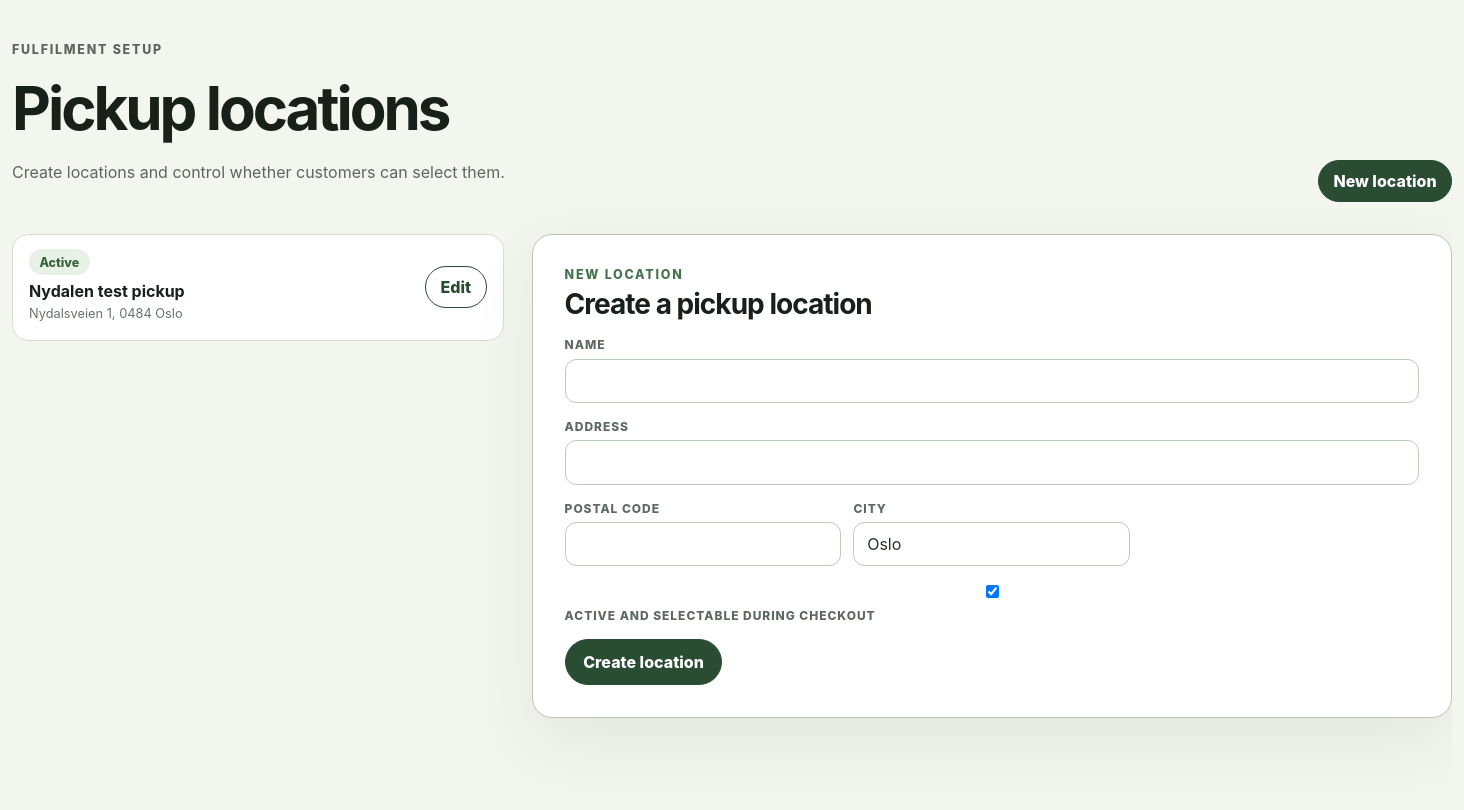
Test: PickupLocationsPanel › edits and deactivates a pickup location
Expected: the heading "Nydalen test pickup" is shown, left=29, top=281, right=185, bottom=301
What coordinates should you click on to do the following:
click the button "Edit"
I would click on:
 (456, 287)
Its box is left=425, top=266, right=487, bottom=308.
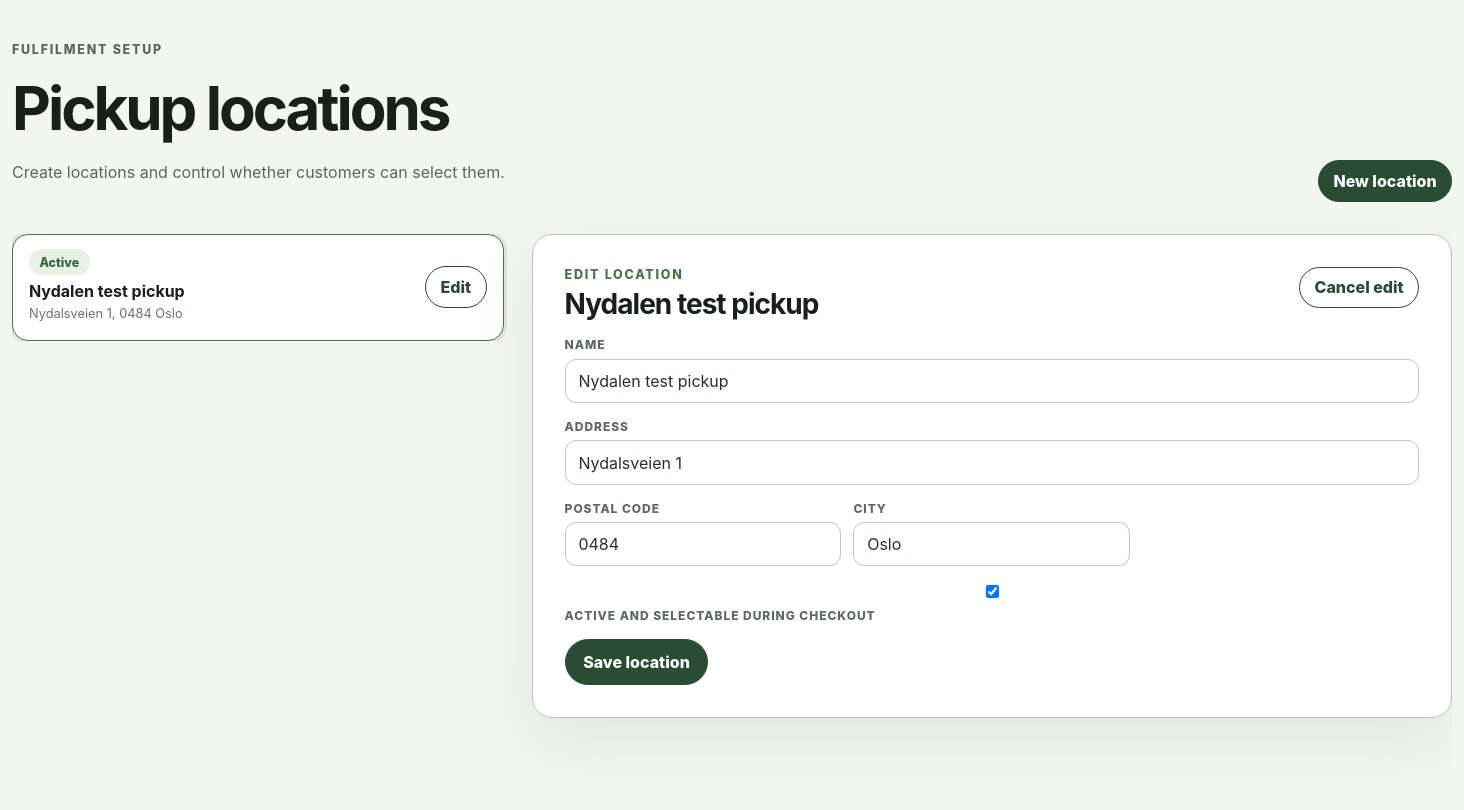
What coordinates should you click on to do the following:
click the checkbox labelled "Active and selectable during checkout"
I would click on:
 (992, 592)
Its box is left=569, top=586, right=1416, bottom=598.
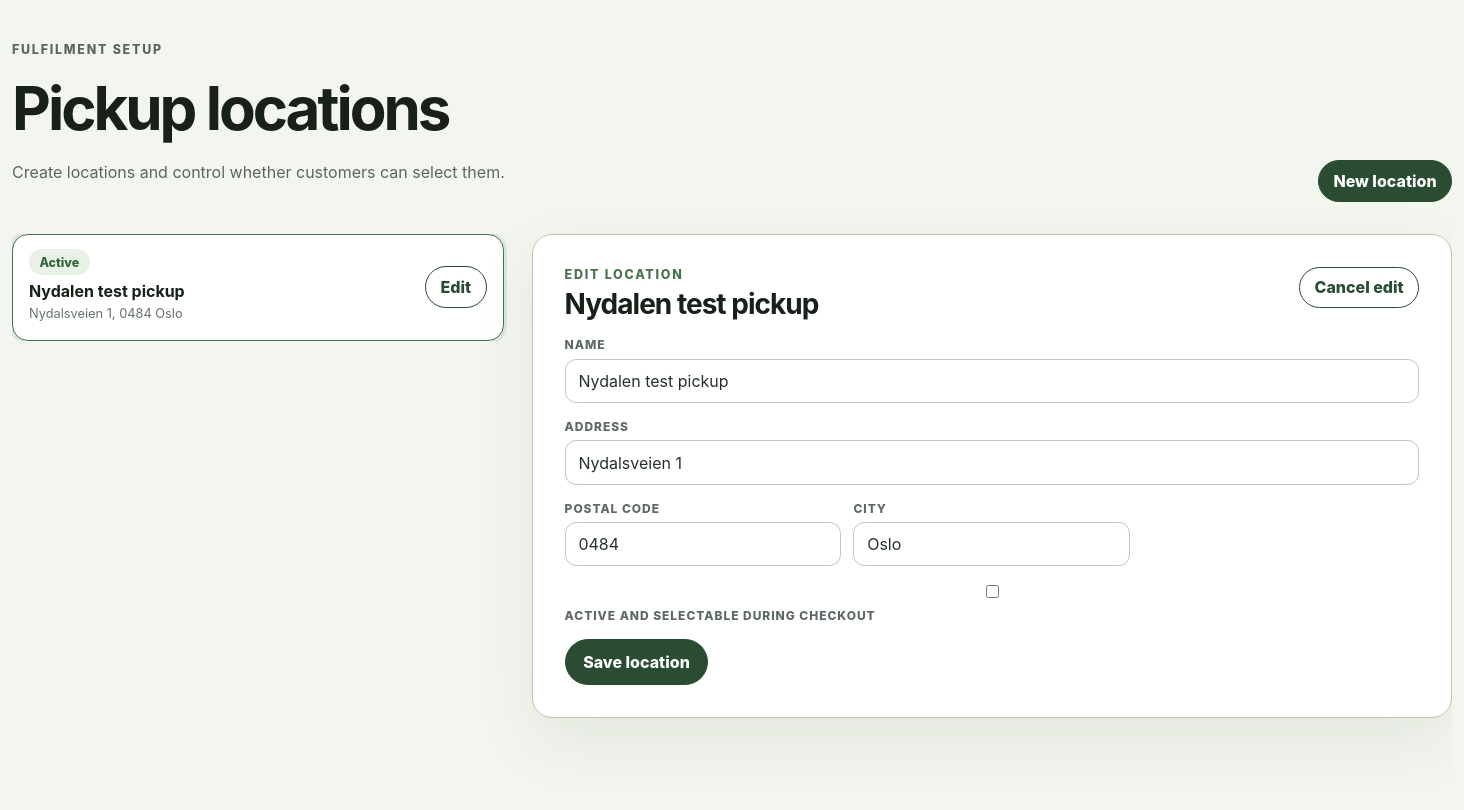
What coordinates should you click on to do the following:
click the button "Save location"
I would click on:
 (636, 662)
Its box is left=565, top=639, right=708, bottom=685.
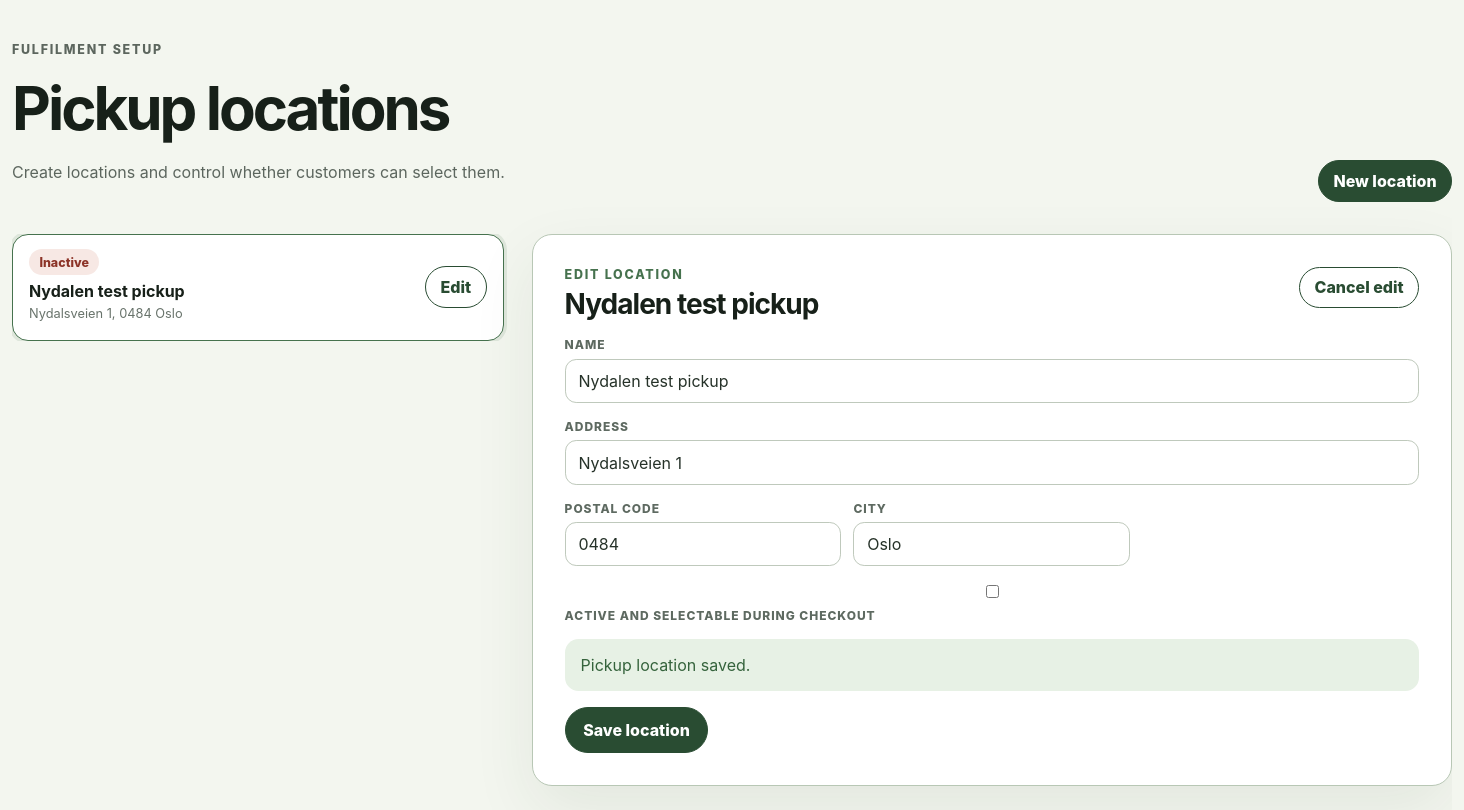
Result: the text "Pickup location saved." is shown at left=565, top=639, right=1419, bottom=691
Result: the text "Inactive" is shown at left=29, top=249, right=99, bottom=275
